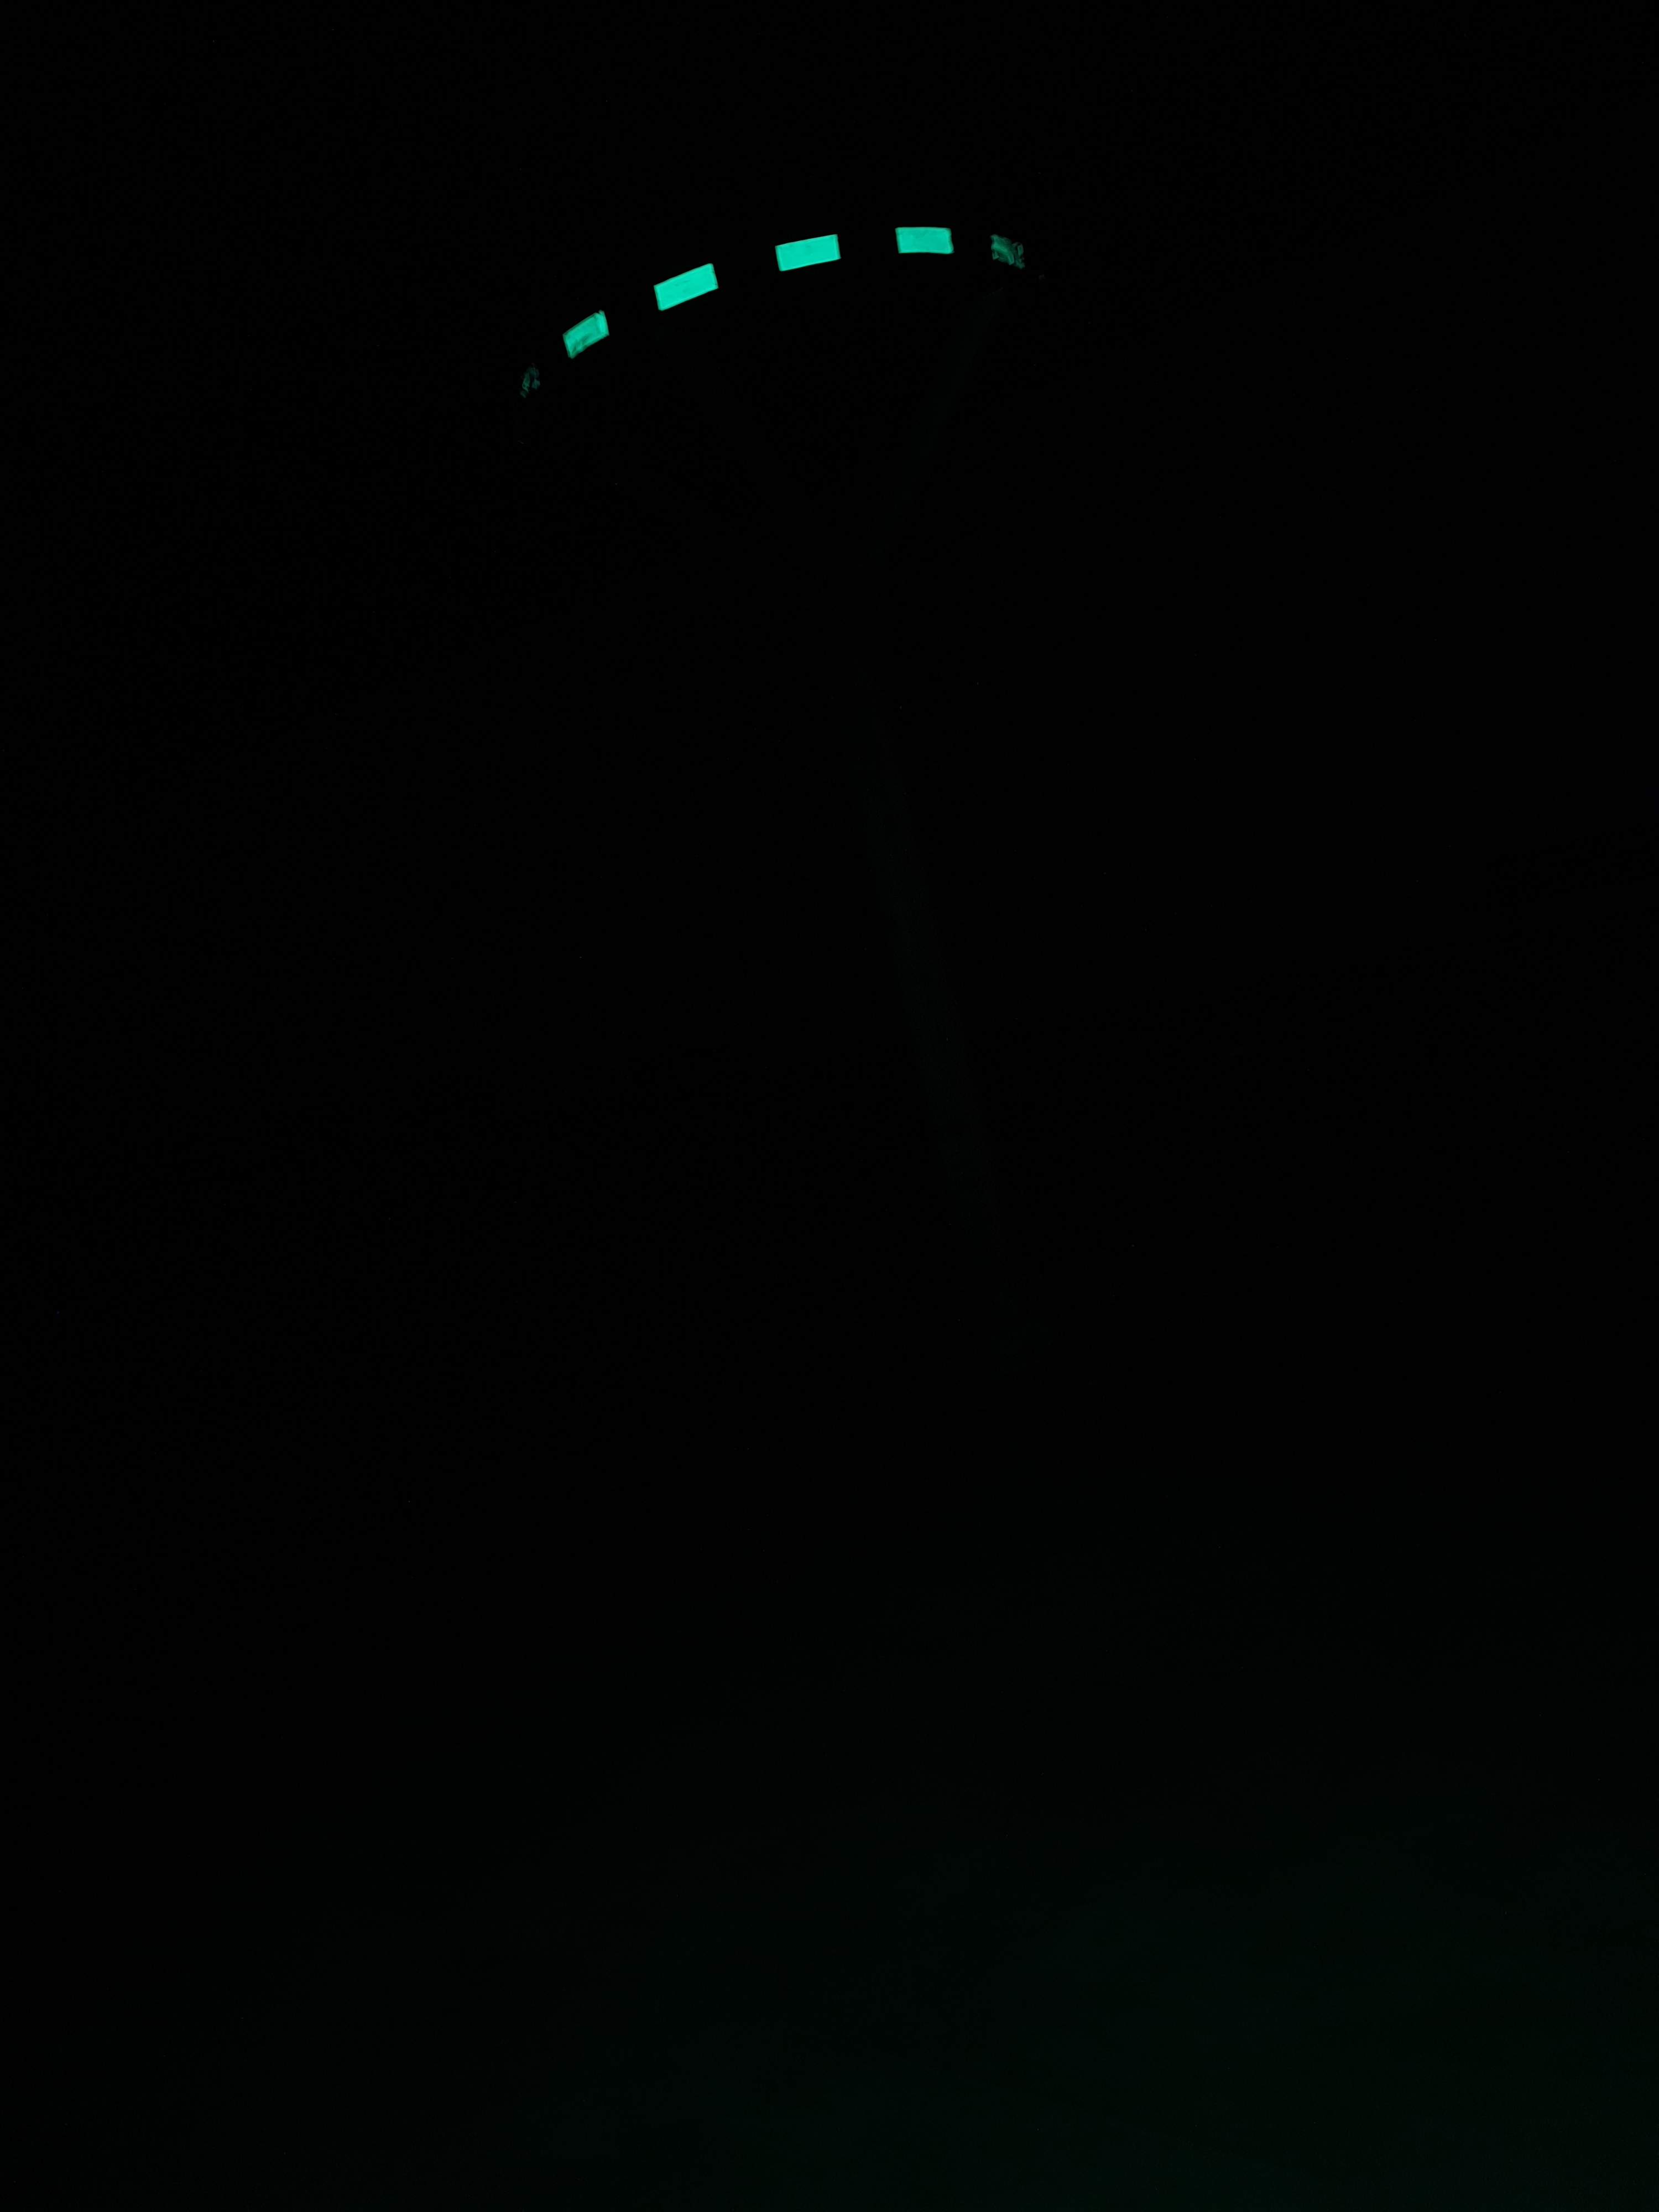hoop: (488, 221, 1039, 399)
